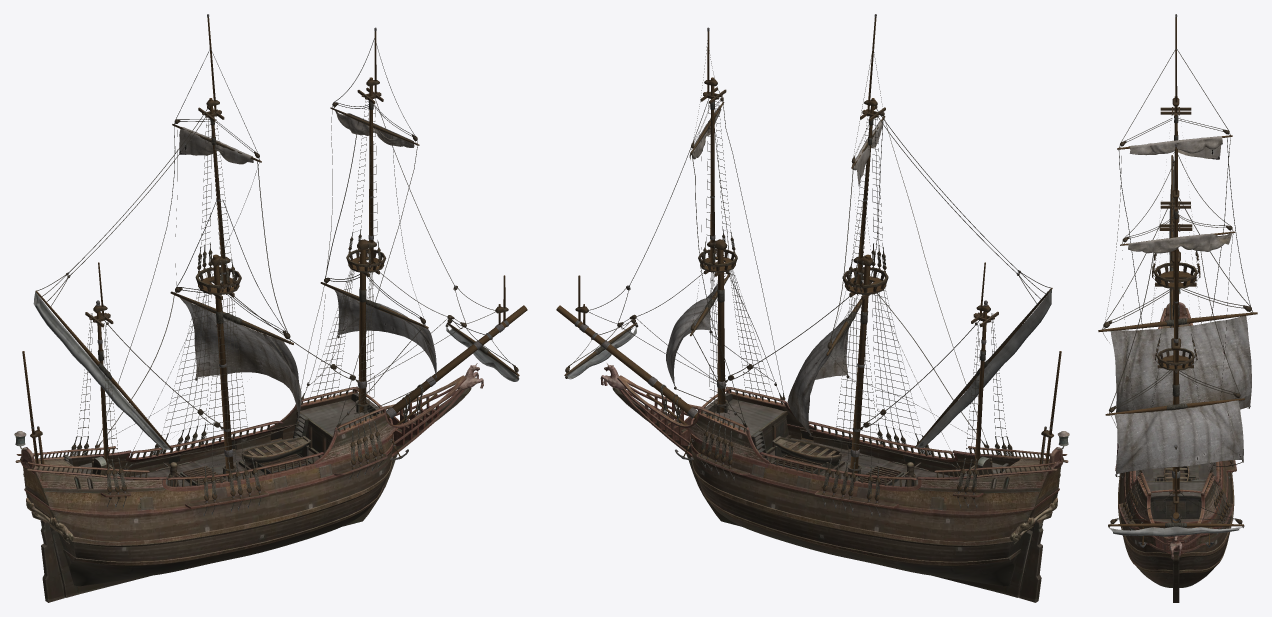
The model's file is dutch_ship_medium.glb.
3 views of the same model, side by side, from view 1: azimuth 30°, elevation 25°; view 2: azimuth 150°, elevation 25°; view 3: azimuth 270°, elevation 25° (orthographic). The views are drawn at different scales.
Visible parts, largest first — view 1: dutch_ship_medium_hull, dutch_ship_medium_rigging, dutch_ship_medium_sails; view 2: dutch_ship_medium_hull, dutch_ship_medium_rigging, dutch_ship_medium_sails; view 3: dutch_ship_medium_sails, dutch_ship_medium_rigging, dutch_ship_medium_hull.
Boxes of the visible parts, left/top/right/bottom form: dutch_ship_medium_hull: left=14, top=363, right=483, bottom=602; dutch_ship_medium_rigging: left=22, top=14, right=527, bottom=516; dutch_ship_medium_sails: left=179, top=111, right=436, bottom=419; dutch_ship_medium_hull: left=600, top=363, right=1069, bottom=602; dutch_ship_medium_rigging: left=556, top=14, right=1061, bottom=516; dutch_ship_medium_sails: left=666, top=105, right=882, bottom=433; dutch_ship_medium_sails: left=1110, top=136, right=1251, bottom=474; dutch_ship_medium_rigging: left=1098, top=14, right=1257, bottom=547; dutch_ship_medium_hull: left=1115, top=289, right=1236, bottom=602.
Size of the model in its own units: 24.07 by 24.66 by 6.81.
3 materials, 3 textured.
